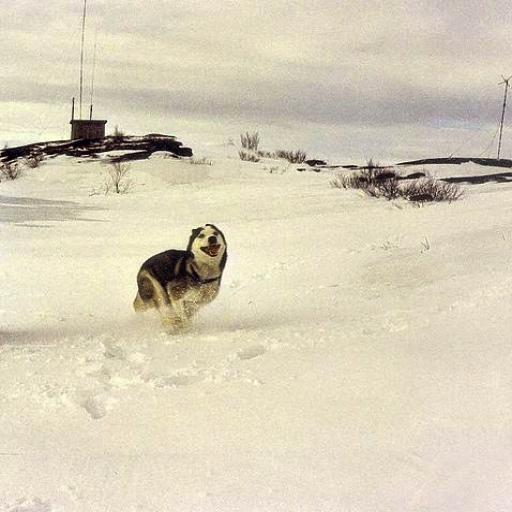dog_face: (184, 221, 231, 267)
